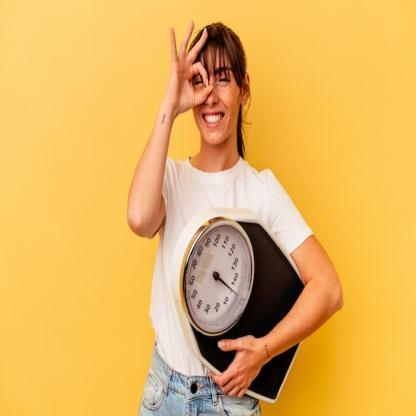ok: (164, 14, 215, 118)
